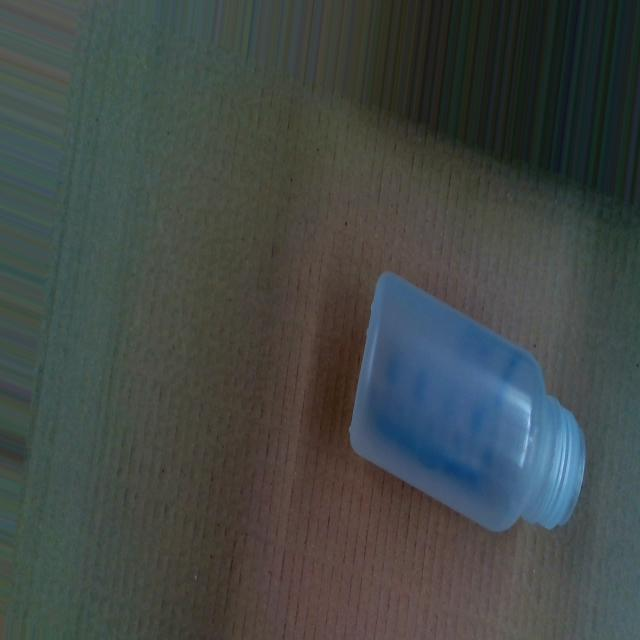bottle: (348, 267, 588, 540)
